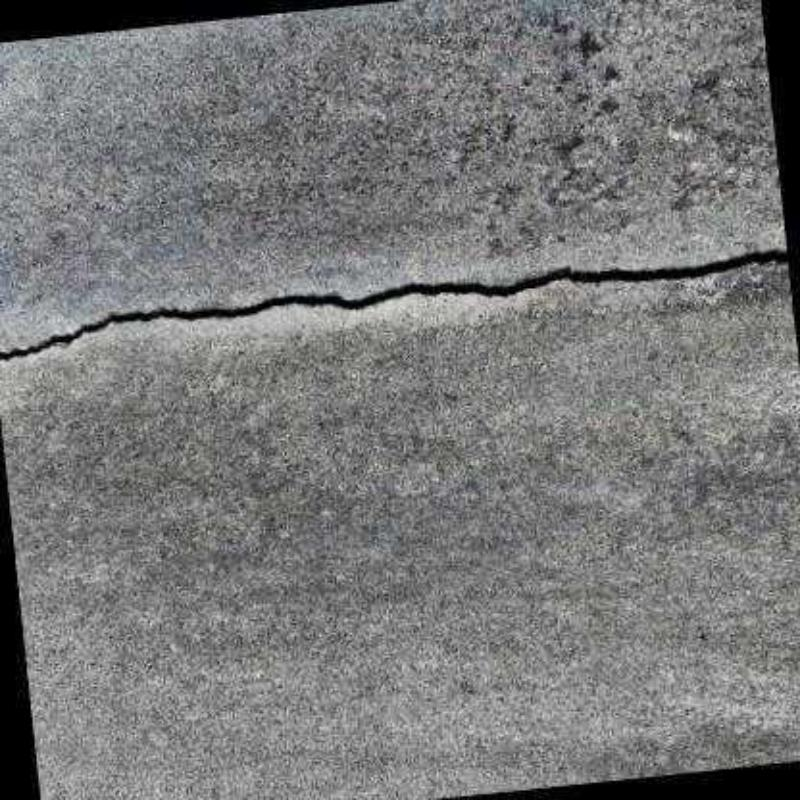crack: (0, 246, 787, 360)
